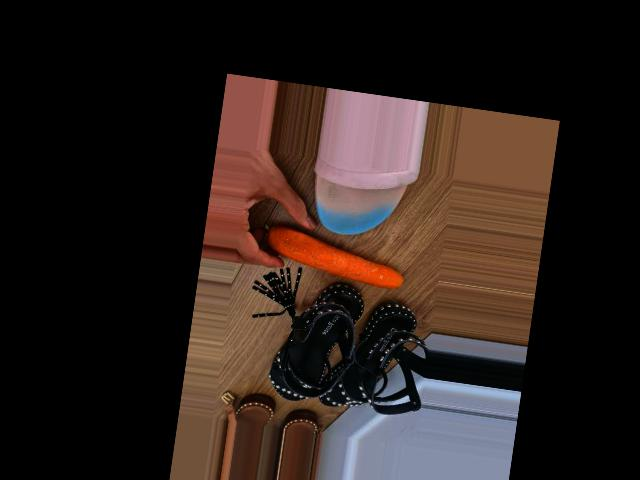carrot: (262, 224, 409, 291)
